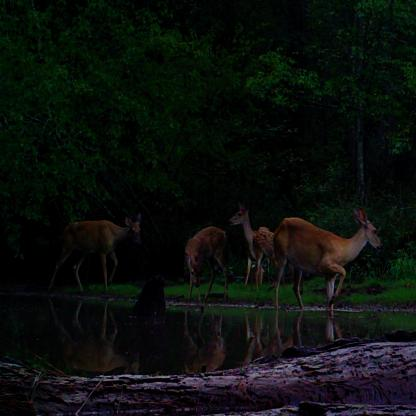Deer: (273, 206, 382, 314), (46, 213, 145, 295), (228, 203, 284, 285), (184, 225, 228, 301)
